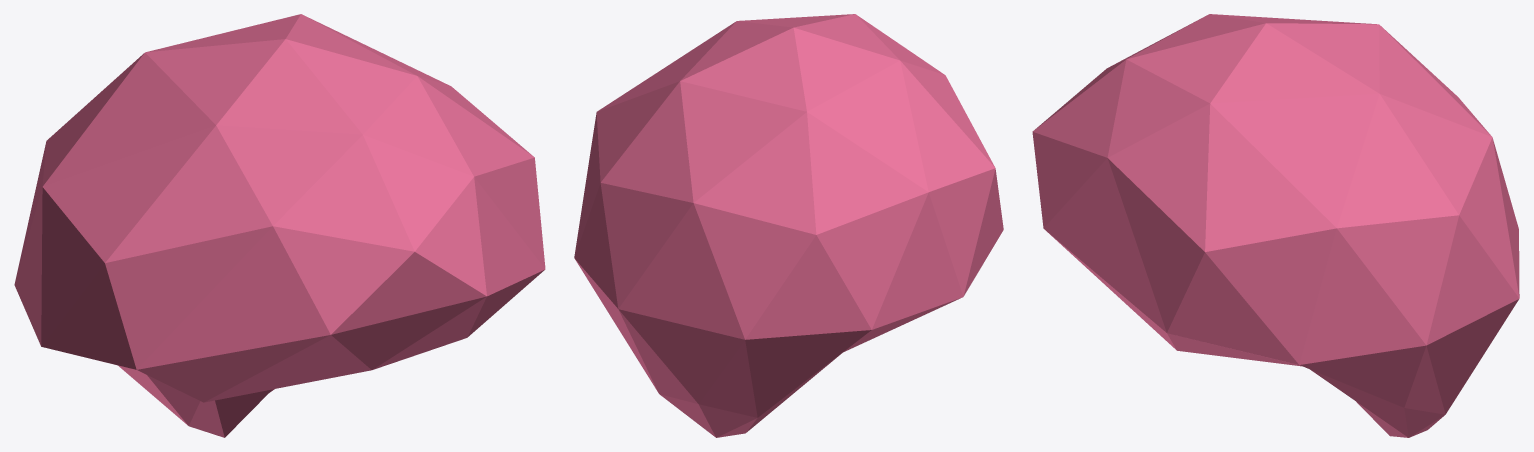
The model's file is Brain.fbx.
3 renders of one model, left to right at view 1: azimuth 30°, elevation 25°; view 2: azimuth 150°, elevation 25°; view 3: azimuth 270°, elevation 25°, orthographic. The views are drawn at different scales.
Visible parts, largest first — view 1: Icosphere; view 2: Icosphere; view 3: Icosphere.
Part boxes in pixels (box(x1,y1,x2,y2)): Icosphere: box(14, 14, 545, 437); Icosphere: box(574, 14, 1003, 437); Icosphere: box(1032, 14, 1519, 437).
Bounding box in the file's own units: 17.94 × 17 × 18.31.
